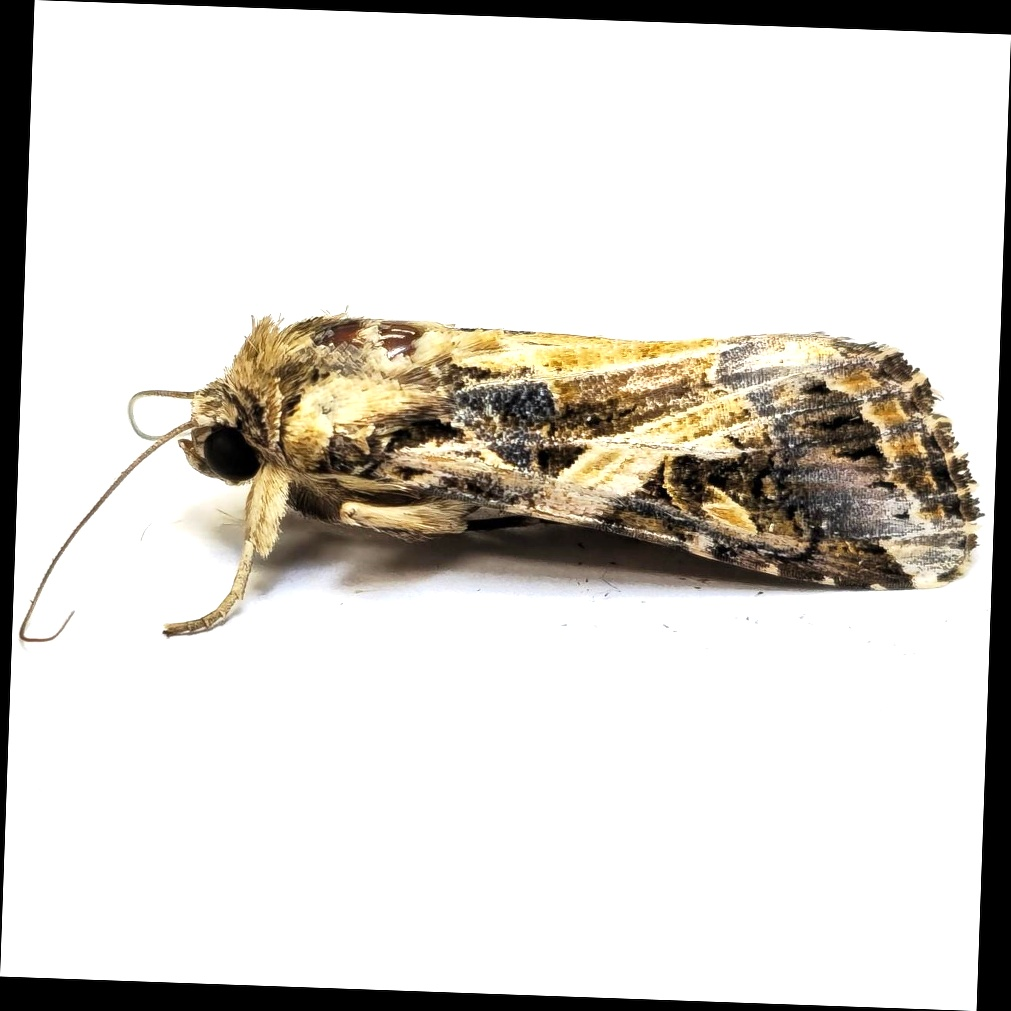Spodoptera litura: (24, 309, 986, 661)
